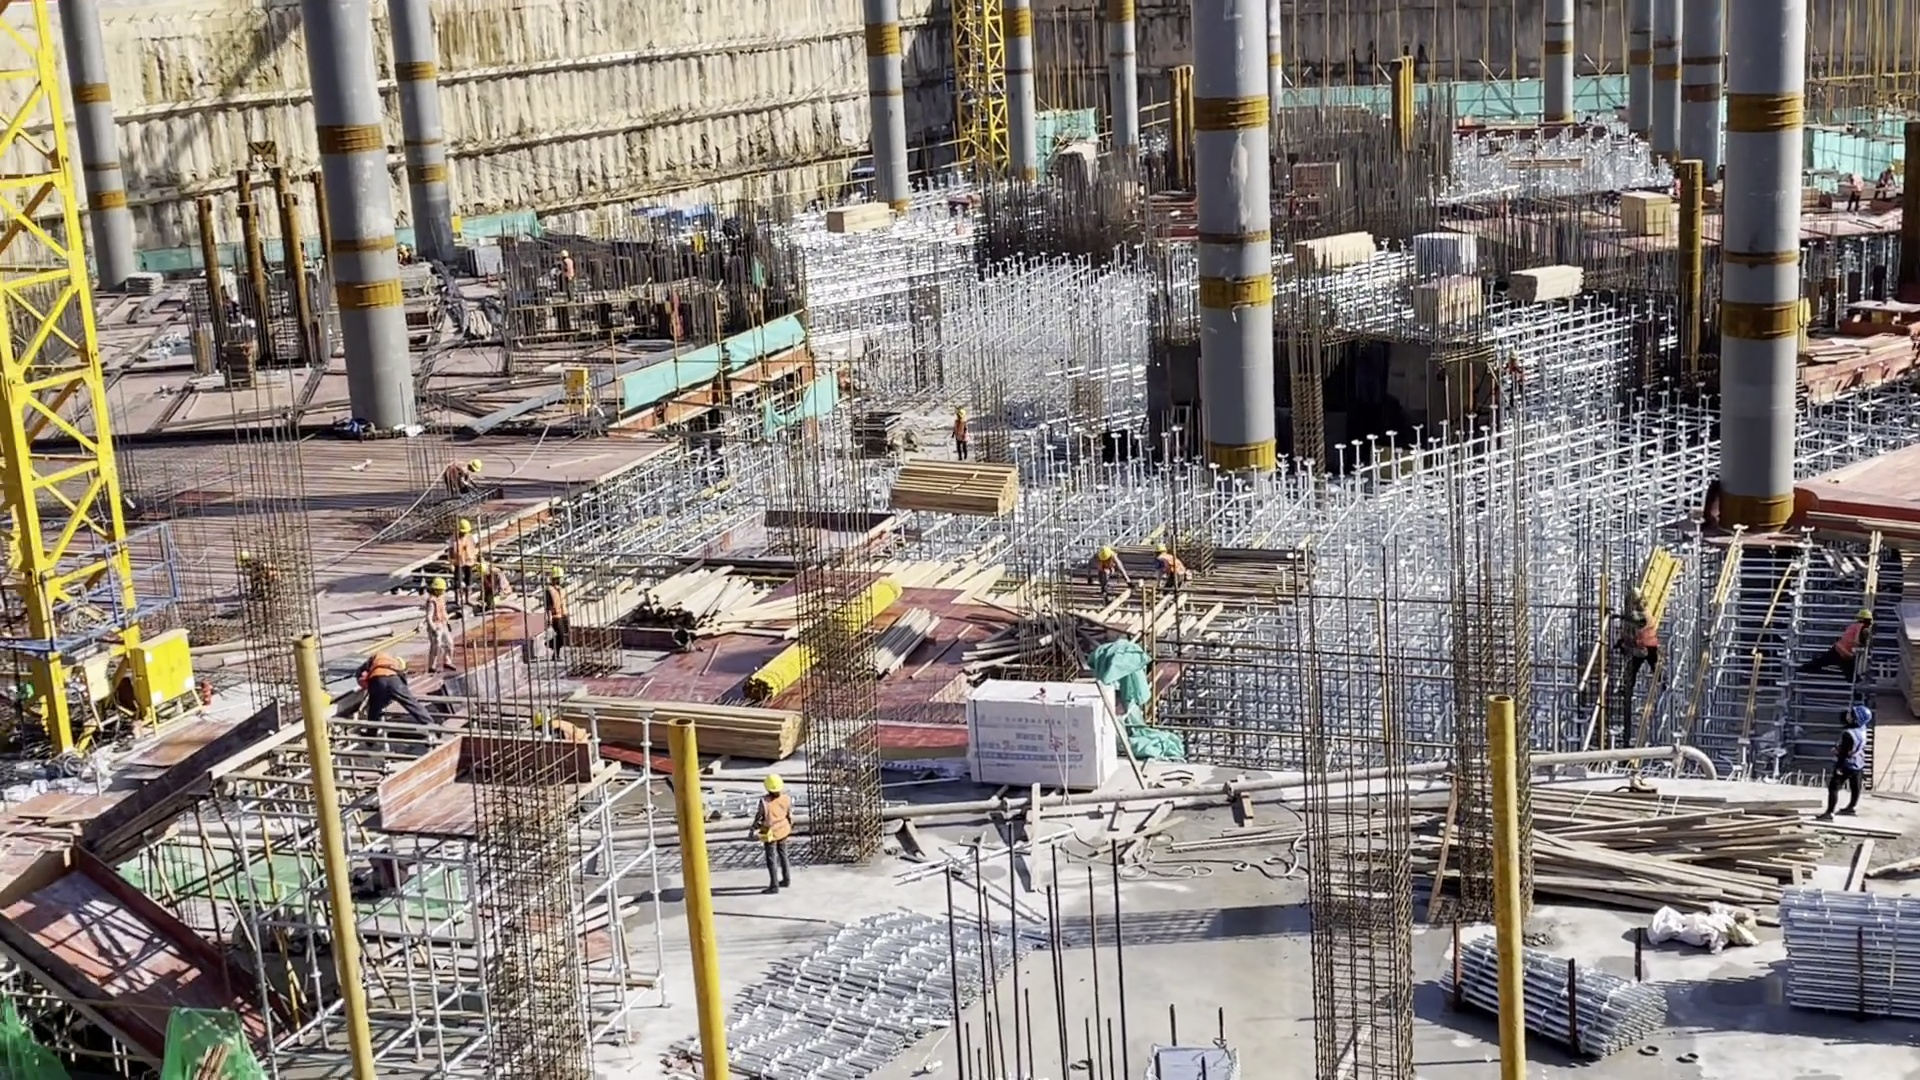board: (1401, 273, 1482, 328), (1624, 189, 1674, 238)
ebox: (141, 624, 198, 723), (81, 650, 112, 728), (562, 367, 589, 419)
helmet: (759, 774, 784, 796), (1849, 706, 1872, 728), (1095, 545, 1114, 560), (548, 564, 566, 581), (1856, 608, 1876, 621), (455, 519, 473, 534), (427, 577, 445, 592), (468, 459, 483, 473), (1155, 542, 1167, 552), (956, 409, 966, 417)
person: (1815, 707, 1874, 823), (353, 653, 429, 729), (1800, 608, 1871, 679), (1619, 585, 1658, 709), (758, 768, 792, 896), (1088, 543, 1135, 598), (424, 579, 451, 674), (544, 563, 568, 660), (453, 516, 478, 598), (443, 458, 484, 499), (1156, 542, 1190, 590), (475, 561, 508, 602), (1846, 170, 1863, 217), (952, 411, 968, 460), (560, 250, 574, 303)
scaffold: (686, 905, 1013, 1080), (1438, 929, 1669, 1054), (1783, 888, 1920, 1033)
vest: (756, 800, 792, 853), (1835, 730, 1868, 774), (1833, 624, 1864, 659), (1633, 609, 1659, 651), (369, 654, 399, 682), (427, 594, 449, 632), (451, 538, 477, 566), (1158, 553, 1185, 578), (548, 587, 569, 621), (443, 461, 468, 486), (955, 419, 966, 442)
wood: (1532, 787, 1816, 912), (604, 564, 831, 645), (527, 691, 806, 756), (880, 455, 1025, 514), (1293, 227, 1376, 276), (1513, 263, 1585, 308), (830, 202, 892, 234)
